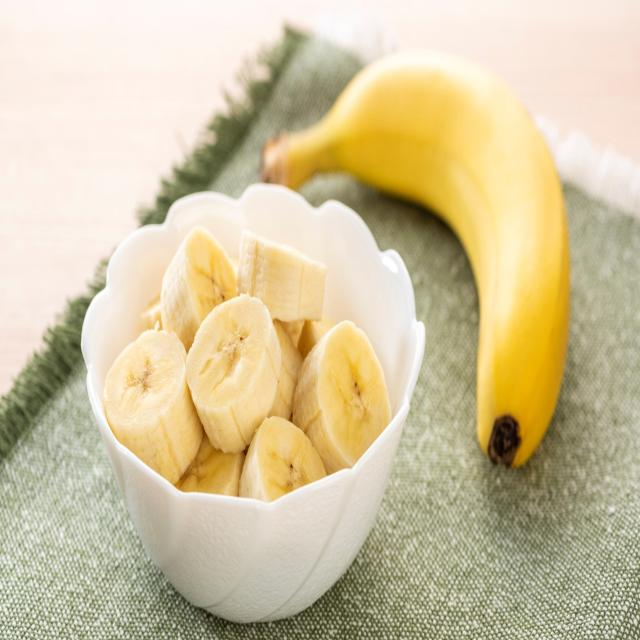Banana: (260, 53, 570, 467)
